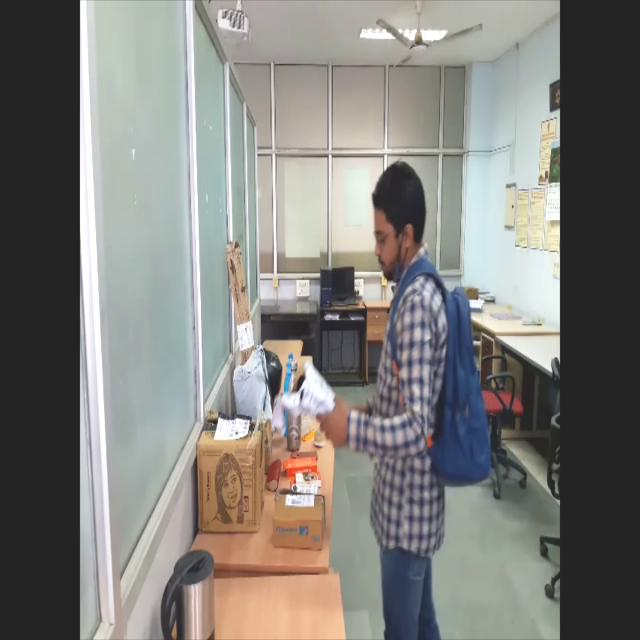normal: (301, 152, 493, 638)
